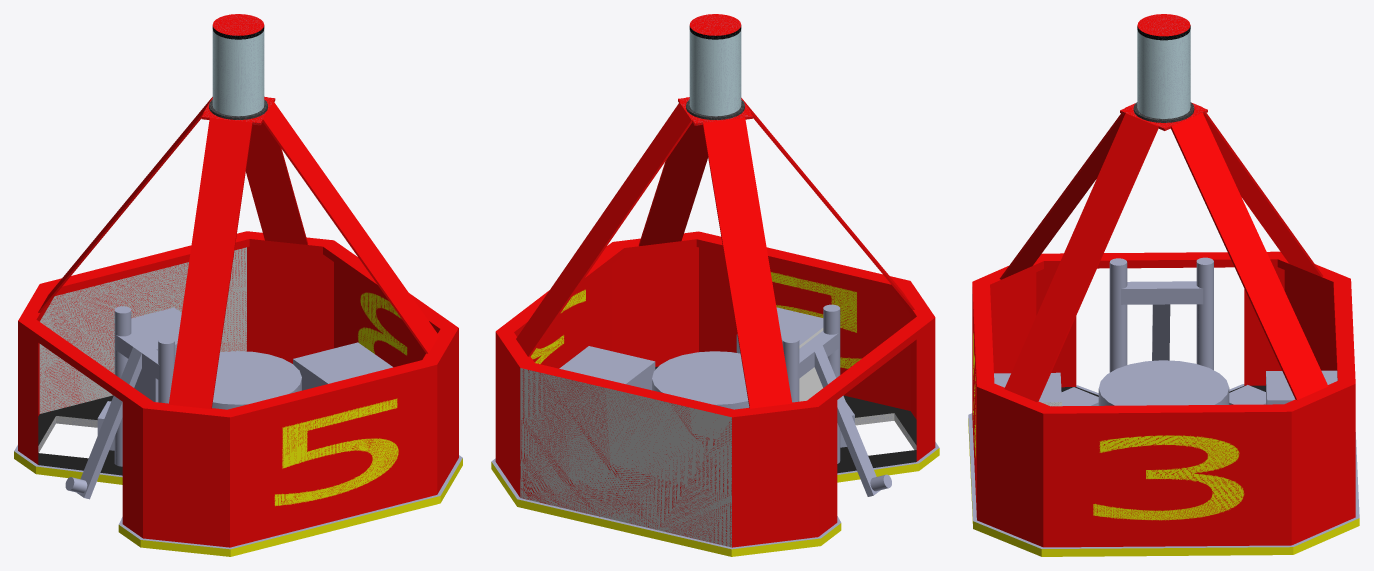
The model's file is rival_frame4.dae.
3 views of the same model, side by side, from view 1: azimuth 30°, elevation 25°; view 2: azimuth 150°, elevation 25°; view 3: azimuth 270°, elevation 25° (orthographic). The views are drawn at different scales.
Parts seen in each view (by area): view 1: SketchUp (×11), 支撑4, 支撑, 摄像头 (×2), 射门 (×3), 支撑2, 支撑3; view 2: SketchUp (×12), 支撑3, 支撑2, 摄像头 (×2), 支撑, 射门 (×3), 支撑4; view 3: SketchUp (×12), 支撑, 支撑2, 射门 (×2), 摄像头 (×2), 支撑4, 支撑3.
Boxes of the visible parts, <box> form: SketchUp (×11): <box>14,231,462,556</box>; 支撑4: <box>168,118,252,408</box>; 支撑: <box>262,101,438,353</box>; 摄像头 (×2): <box>212,14,264,116</box>; 射门 (×3): <box>77,306,174,499</box>; 支撑2: <box>246,122,307,244</box>; 支撑3: <box>38,97,212,312</box>; SketchUp (×12): <box>491,231,939,556</box>; 支撑3: <box>702,117,792,408</box>; 支撑2: <box>516,102,692,356</box>; 摄像头 (×2): <box>689,14,741,116</box>; 支撑: <box>638,97,707,246</box>; 射门 (×3): <box>782,304,880,496</box>; 支撑4: <box>741,98,914,309</box>; SketchUp (×12): <box>968,251,1359,556</box>; 支撑: <box>1004,113,1158,401</box>; 支撑2: <box>1171,113,1328,399</box>; 射门 (×2): <box>1109,257,1213,372</box>; 摄像头 (×2): <box>1137,14,1190,118</box>; 支撑4: <box>999,113,1124,279</box>; 支撑3: <box>1202,107,1323,276</box>.
Bounding box in the file's own units: 18.19 × 17.75 × 22.48.
